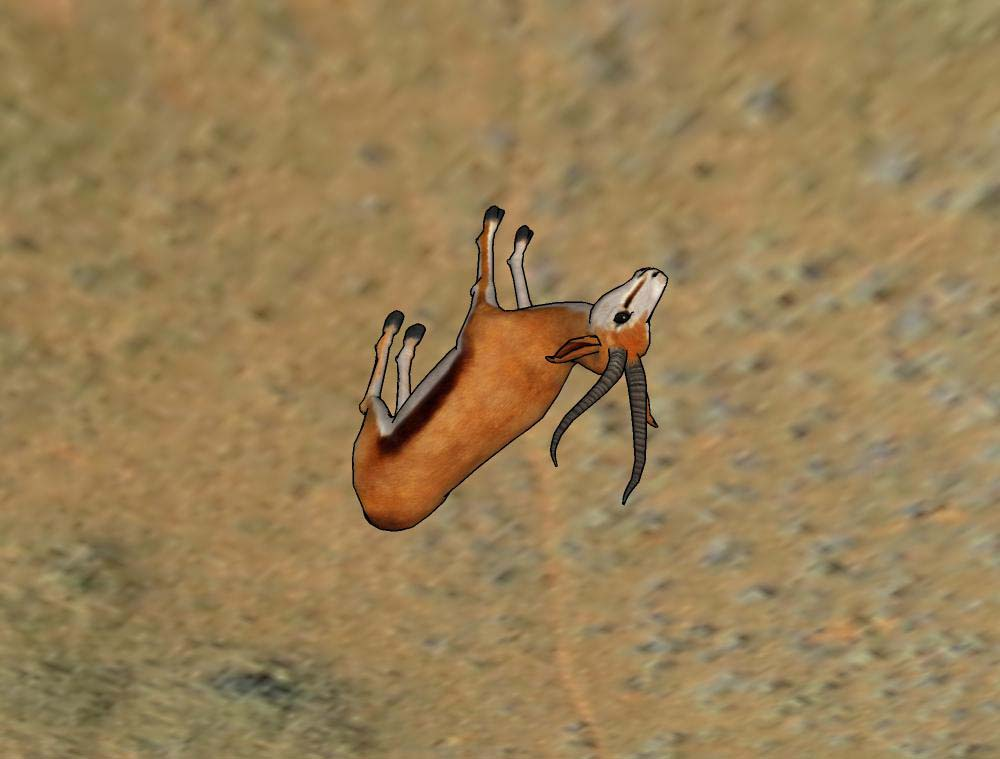springbok: (342, 198, 676, 544)
